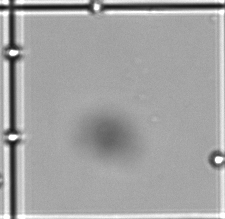Living Cell: (209, 151, 225, 168), (5, 45, 22, 59), (89, 1, 105, 15), (5, 131, 22, 144)
